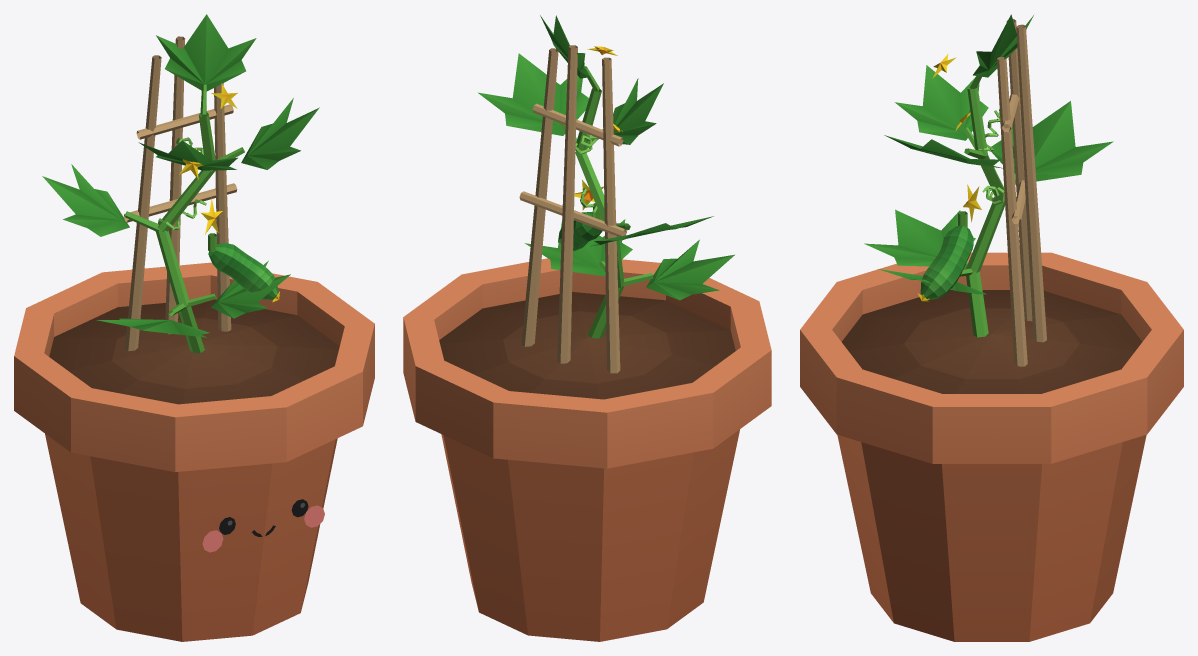
File: cute_cucumber_stage2.glb
The picture shows the model from 3 angles, left to right: view 1: azimuth 30°, elevation 25°; view 2: azimuth 150°, elevation 25°; view 3: azimuth 270°, elevation 25°; orthographic projection. The views are drawn at different scales.
Parts seen in each view (by area): view 1: PlantModel; view 2: PlantModel; view 3: PlantModel.
Part boxes in pixels (left/top/right/bottom): PlantModel: left=14, top=14, right=374, bottom=641; PlantModel: left=403, top=15, right=771, bottom=641; PlantModel: left=800, top=14, right=1183, bottom=641.
Bounding box in the file's own units: 0.3766 × 0.6717 × 0.396.
